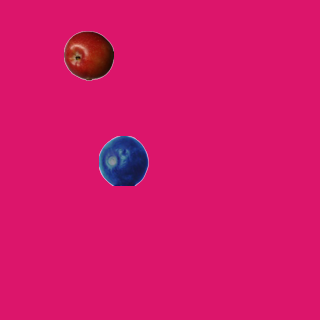Apple Braeburn: (63, 30, 113, 80)
Huckleberry: (98, 135, 148, 185)
